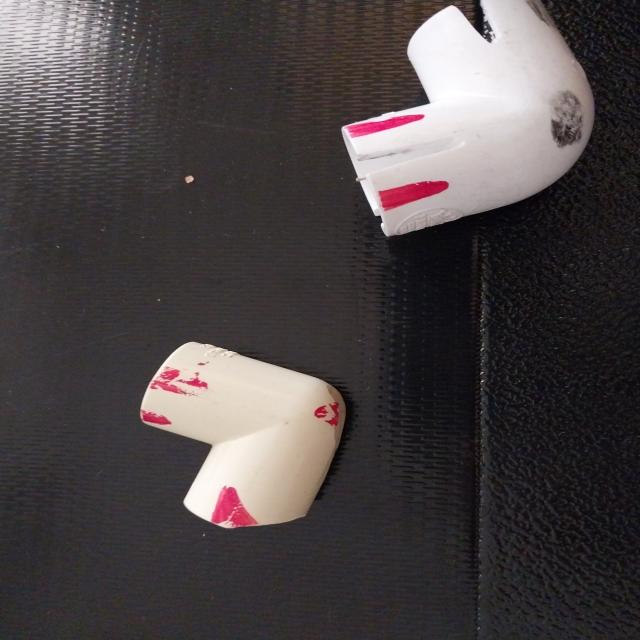Defective: (368, 173, 465, 213), (534, 96, 607, 147), (434, 0, 502, 44), (162, 353, 191, 422), (216, 488, 259, 529), (350, 121, 438, 138)
L Joint: (340, 0, 596, 240), (138, 342, 348, 531)
